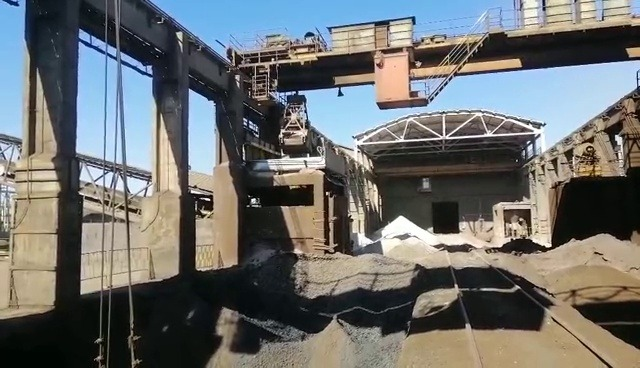grab: (274, 88, 316, 154)
